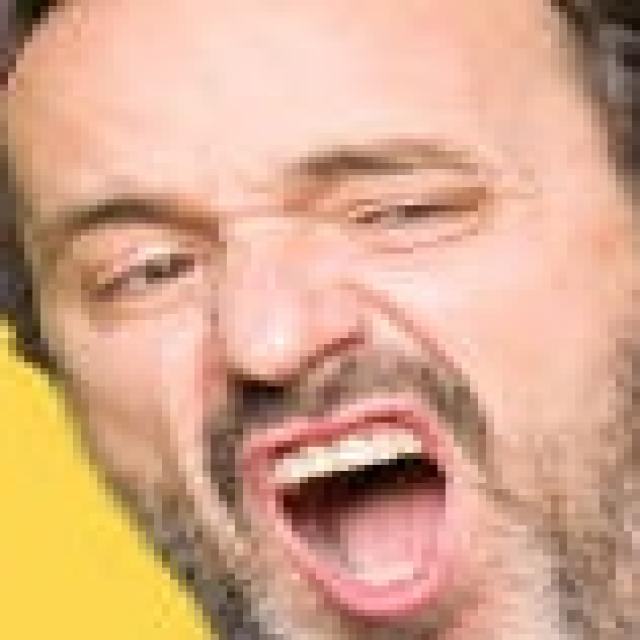Anxiety: (2, 0, 632, 634)
